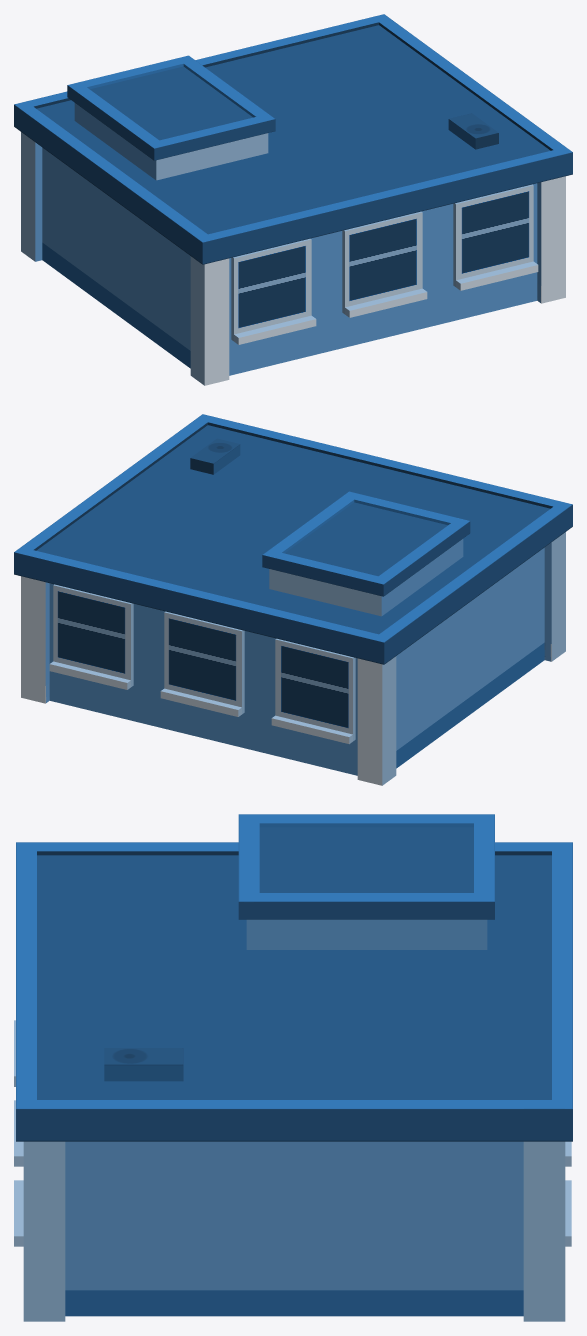
Rendered from ShopBlue_Top.fbx.
The picture shows the model from 3 angles, top to bottom: view 1: azimuth 30°, elevation 25°; view 2: azimuth 150°, elevation 25°; view 3: azimuth 270°, elevation 25°; orthographic projection. The views are drawn at different scales.
Parts seen in each view (by area): view 1: ShopBlue_Middle; view 2: ShopBlue_Middle; view 3: ShopBlue_Middle.
Part boxes in pixels (x1,y1,x2,y2): ShopBlue_Middle: (14,14,572,385); ShopBlue_Middle: (14,414,572,785); ShopBlue_Middle: (14,814,572,1321).
Size of the model in its own units: 582 by 268 by 515.
Materials: 1 (1 with a texture image).
